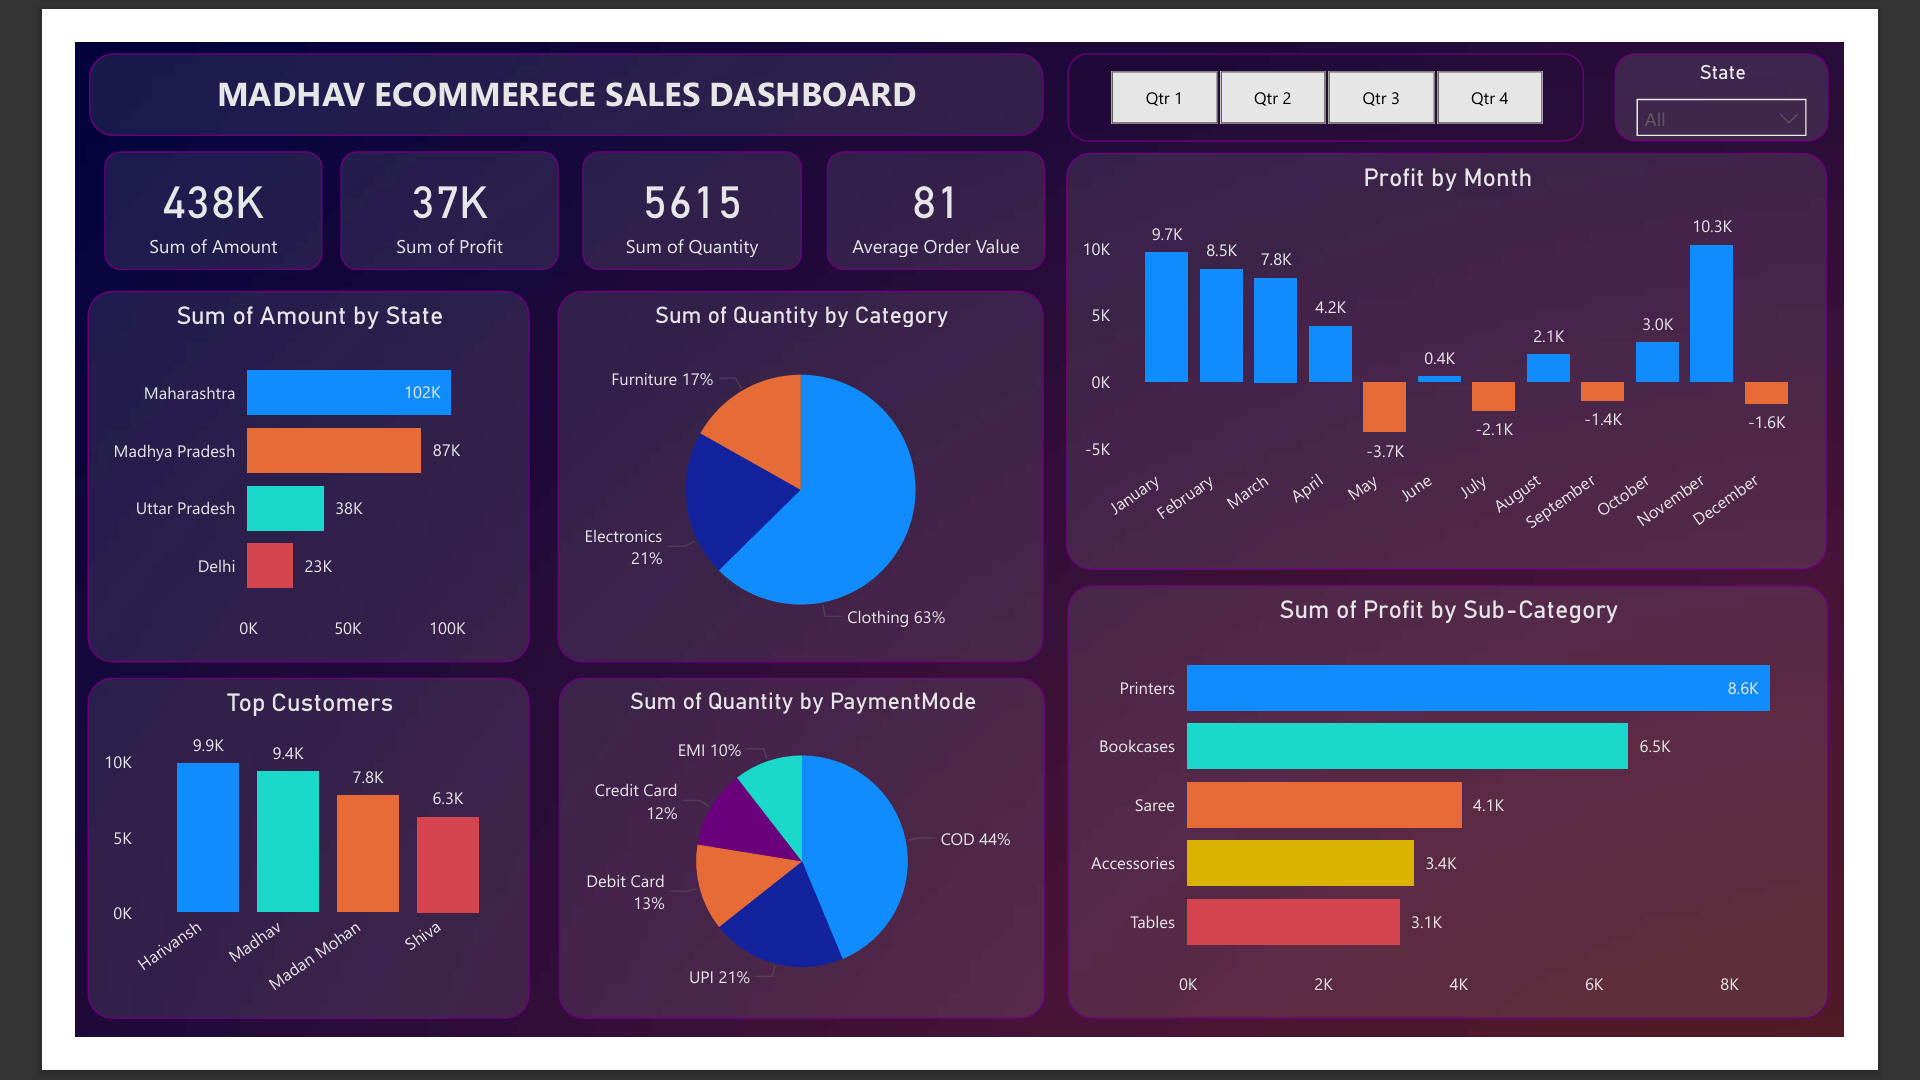

What the dashboard file says about the page in this screenshot:
{"tool":"powerbi","page":{"name":"Page 1","canvas":[1280,720],"ordinal":0},"visuals":[{"type":"textbox","box":[9.7,8.4,691.3,59.1],"z":0},{"type":"columnChart","title":" Profit by Month","fields":{"Y":["Details.Profit"],"Category":["Orders.Order Date.Variation.Date Hierarchy.Month"]},"box":[716.6,79.6,551.3,302.8],"z":1000},{"type":"barChart","fields":{"Category":["Details.Sub-Category"],"Y":["Details.Profit"]},"box":[717.8,393.3,551.3,313.7],"z":2000},{"type":"pieChart","fields":{"Y":["Details.Quantity"],"Category":["Details.PaymentMode"]},"box":[350,460.5,352.3,246.5],"z":3000},{"type":"pieChart","fields":{"Y":["Details.Quantity"],"Category":["Details.Category"]},"box":[348.8,180.2,352.3,268.6],"z":4000},{"type":"barChart","fields":{"Category":["Orders.State"],"Y":["Details.Amount"]},"box":[9.3,180.2,319.8,268.6],"z":5000},{"type":"columnChart","title":"Top Customers","fields":{"Category":["Orders.CustomerName"],"Y":["Details.Amount"]},"box":[9.3,460.5,319.8,246.5],"z":6000},{"type":"card","fields":{"Values":["Details.Amount"]},"box":[20.9,79.1,158.1,86],"z":7000},{"type":"card","fields":{"Values":["Details.Profit"]},"box":[191.9,79.1,158.1,86],"z":8000},{"type":"card","fields":{"Values":["Details.Quantity"]},"box":[367.4,79.1,158.1,86],"z":9000},{"type":"card","fields":{"Values":["Details.AOV"]},"box":[544.2,79.1,158.1,86],"z":10000},{"type":"slicer","fields":{"Values":["Orders.Order Date.Variation.Date Hierarchy.Quarter"]},"box":[717.8,8.4,374,63.9],"z":11000},{"type":"slicer","title":"State","fields":{"Values":["Orders.State"]},"box":[1113.5,8.4,155.6,63.9],"z":12000}]}

Visuals, with their boxes in screenshot pixels (x1, y1, x2, y2), scaled from the page's 1280x720 canvas onto the 1920x1080 screenshot:
textbox: (15, 13, 1052, 101)
" Profit by Month" columnChart: (1075, 119, 1902, 574)
barChart - Details.Sub-Category x Details.Profit: (1077, 590, 1904, 1060)
pieChart - Details.Quantity x Details.PaymentMode: (525, 691, 1053, 1060)
pieChart - Details.Quantity x Details.Category: (523, 270, 1052, 673)
barChart - Orders.State x Details.Amount: (14, 270, 494, 673)
"Top Customers" columnChart: (14, 691, 494, 1060)
card - Details.Amount: (31, 119, 268, 248)
card - Details.Profit: (288, 119, 525, 248)
card - Details.Quantity: (551, 119, 788, 248)
card - Details.AOV: (816, 119, 1053, 248)
slicer - Orders.Order Date.Variation.Date Hierarchy.Quarter: (1077, 13, 1638, 108)
"State" slicer: (1670, 13, 1904, 108)
